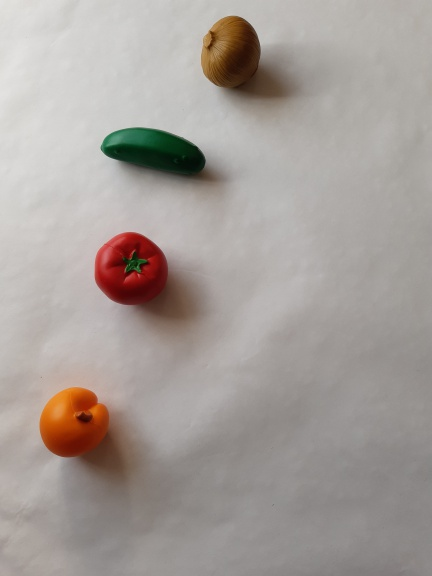apricot: (33, 382, 120, 464)
cucumber: (90, 119, 219, 186)
onion: (187, 11, 274, 99)
tomato: (85, 221, 182, 312)
